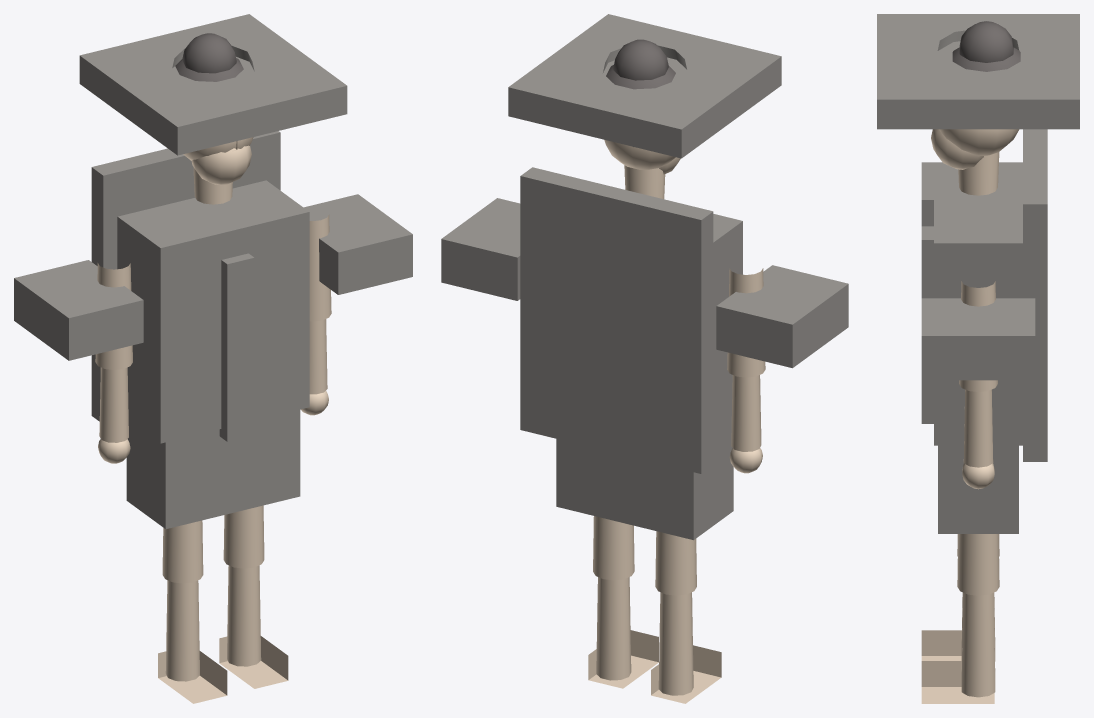
File: body.glb
3 renders of one model, left to right at view 1: azimuth 30°, elevation 25°; view 2: azimuth 150°, elevation 25°; view 3: azimuth 270°, elevation 25°, orthographic. The views are drawn at different scales.
Parts seen in each view (by area): view 1: Cloth, Skin, Hair; view 2: Cloth, Skin, Hair; view 3: Cloth, Skin, Hair.
Part boxes in pixels (bbox=[...]): Cloth: bbox=[14, 14, 412, 528]; Skin: bbox=[95, 137, 331, 703]; Hair: bbox=[175, 33, 243, 81]; Cloth: bbox=[441, 14, 848, 540]; Skin: bbox=[588, 139, 765, 703]; Hair: bbox=[606, 39, 675, 89]; Cloth: bbox=[877, 14, 1079, 533]; Skin: bbox=[921, 129, 1019, 703]; Hair: bbox=[952, 21, 1020, 71].
Bounding box in the file's own units: 1.01 × 1.78 × 0.5.
